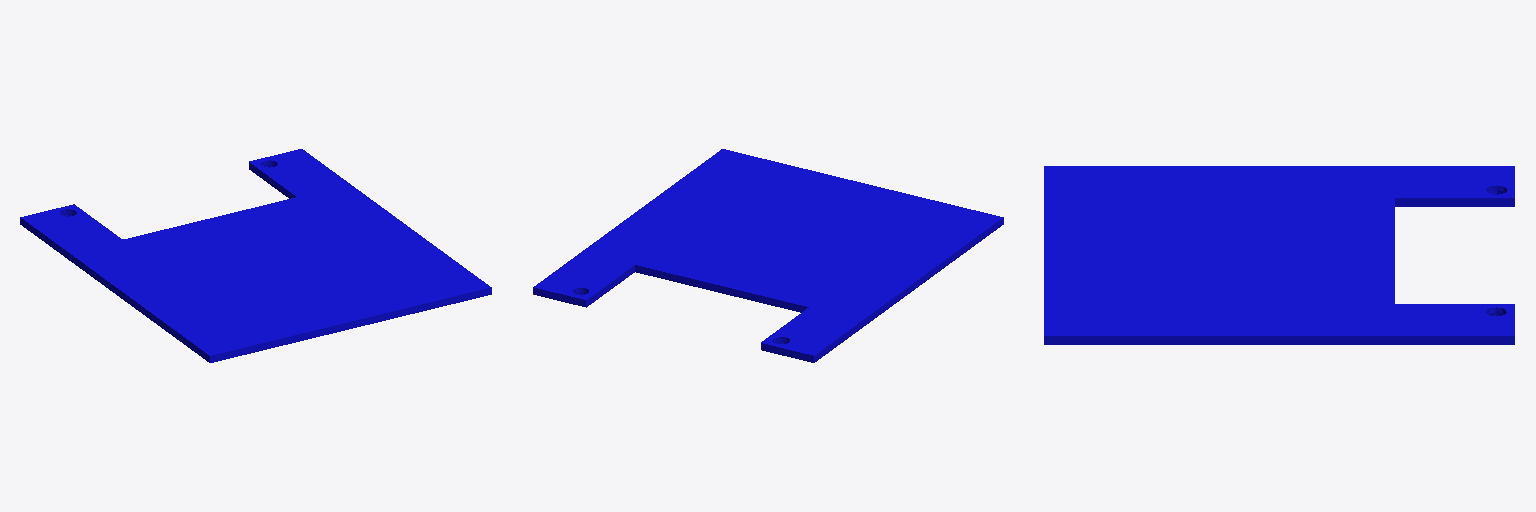
robot.urdf — driller:
<?xml version="1.0" encoding="utf-8"?>
<!-- =================================================================================== -->
<!-- |    This document was autogenerated by xacro from driller_with_qr_drill.xacro    | -->
<!-- |    EDITING THIS FILE BY HAND IS NOT RECOMMENDED                                 | -->
<!-- =================================================================================== -->
<robot name="driller">
  <link name="base_link">
    <visual>
      <origin rpy="0 0 0" xyz="0 0 0"/>
      <geometry>
        <mesh filename="package://gerard_bauzil/meshes/driller/BD_drill_2.stl"/>
      </geometry>
      <material name="Red">
        <color rgba="0.9 0.1 0.1 1.0"/>
      </material>
    </visual>
    <collision>
      <origin rpy="0 0 0" xyz="0 0 0"/>
      <geometry>
        <mesh filename="package://gerard_bauzil/meshes/driller/BD_drill_2.stl"/>
      </geometry>
    </collision>
    <inertial>
      <mass value="0.001"/>
      <origin rpy="0 0 0" xyz="0 0 0"/>
      <inertia ixx="0.001" ixy="0" ixz="0" iyy="0.001" iyz="0" izz="0.001"/>
    </inertial>
  </link>
  <link name="drill_link">
    <visual>
      <geometry>
        <cylinder length="0.074" radius="0.005"/>
      </geometry>
      <material name="blue">
        <color rgba="0.1 0.1 0.9 1"/>
      </material>
    </visual>
    <collision>
      <geometry name="drill">
        <cylinder length="0.074" radius="0.005"/>
      </geometry>
    </collision>
    <inertial>
      <mass value="0.001"/>
      <inertia ixx="0.001" ixy="0" ixz="0" iyy="0.001" iyz="0" izz="0.001"/>
    </inertial>
    <collision_checking>
      <!--- This tells to pinocchio to replace the cylinder called "drill" by
             a capsule with the same radius and length -->
      <capsule name="drill"/>
    </collision_checking>
  </link>
  <link name="tag_support_link_top">
    <visual>
      <geometry>
        <mesh filename="package://gerard_bauzil/meshes/driller/qr_drill_top.stl"/>
      </geometry>
      <material name="blue">
        <color rgba="0.1 0.1 0.9 1"/>
      </material>
    </visual>
    <collision>
      <geometry>
        <mesh filename="package://gerard_bauzil/meshes/driller/qr_drill_top.stl"/>
      </geometry>
    </collision>
    <inertial>
      <mass value="0.001"/>
      <inertia ixx="0.001" ixy="0" ixz="0" iyy="0.001" iyz="0" izz="0.001"/>
    </inertial>
  </link>
  <joint name="tag_support_joint" type="fixed">
    <parent link="drill_link"/>
    <child link="tag_support_link_top"/>
    <!-- 74mm / 2 + 4mm -->
    <origin rpy="3.141592653589793 1.57079632679 0" xyz="0.06 0.00 -0.111"/>
    <!-- <origin xyz="0 0.049 0.041" rpy="0 3.141592653589793 0" /> -->
  </joint>
  <link name="tag36_11_00023">
    <visual>
      <origin xyz="0 0 0.00001"/>
      <geometry>
        <mesh filename="package://gerard_bauzil/meshes/apriltag_36h11/tag36_11_00023.dae" scale="0.04 0.04 1."/>
      </geometry>
    </visual>
  </link>
  <joint name="tag_joint" type="fixed">
    <parent link="tag_support_link_top"/>
    <child link="tag36_11_00023"/>
    <origin xyz="0 0 0.002"/>
  </joint>
  <!-- The drill penetrates in the driller of 74 - 46.5 = 27.5mm -->
  <joint name="drill_joint" type="fixed">
    <origin rpy="0 1.5707963267948966 0" xyz="0.121 0 0.074"/>
    <parent link="base_link"/>
    <child link="drill_link"/>
  </joint>
  <link name="support_link"/>
  <joint name="support_joint" type="fixed">
    <origin rpy="0 0.07256862 0" xyz="0 0 -0.1125"/>
    <parent link="base_link"/>
    <child link="support_link"/>
  </joint>
</robot>

--- Facts derived from the render (not from the file) ---
3 views of the same robot in one strip: view 1: azimuth 30°, elevation 25°; view 2: azimuth 150°, elevation 25°; view 3: azimuth 270°, elevation 25° (orthographic).
Model driller with 5 links and 4 joints (4 fixed), rooted at base_link, posed every joint at zero.
Visible links, largest first — view 1: tag_support_link_top; view 2: tag_support_link_top; view 3: tag_support_link_top.
Boxes of the visible links, x1=… form: tag_support_link_top: x1=20, y1=149, x2=491, y2=362; tag_support_link_top: x1=533, y1=149, x2=1003, y2=362; tag_support_link_top: x1=1044, y1=166, x2=1514, y2=344.
Size in the robot's own frame: 60.15 by 70.04 by 1.63 metres.
3 mesh visuals loaded from 3 distinct referenced files (2 binary STL, 1 Collada DAE).
